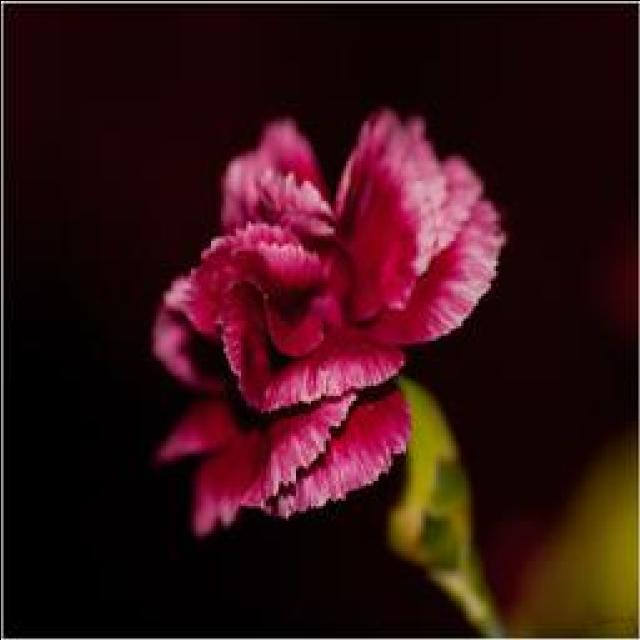carnation: (128, 88, 532, 544)
